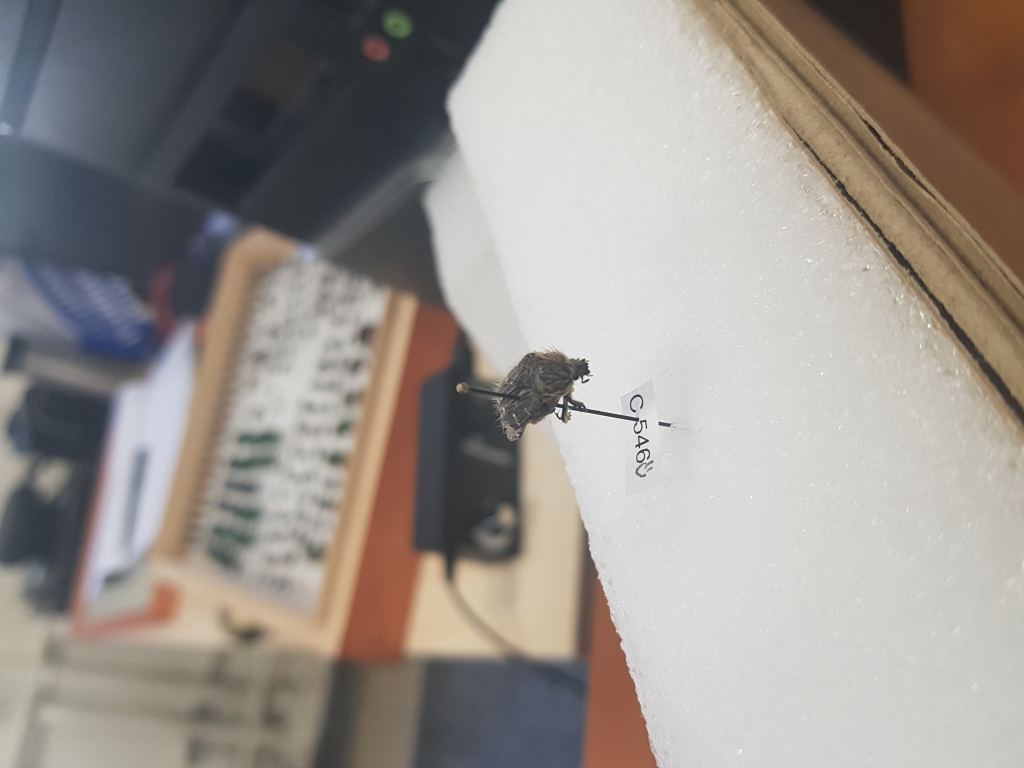Tropinota_senicula: (494, 343, 607, 444)
